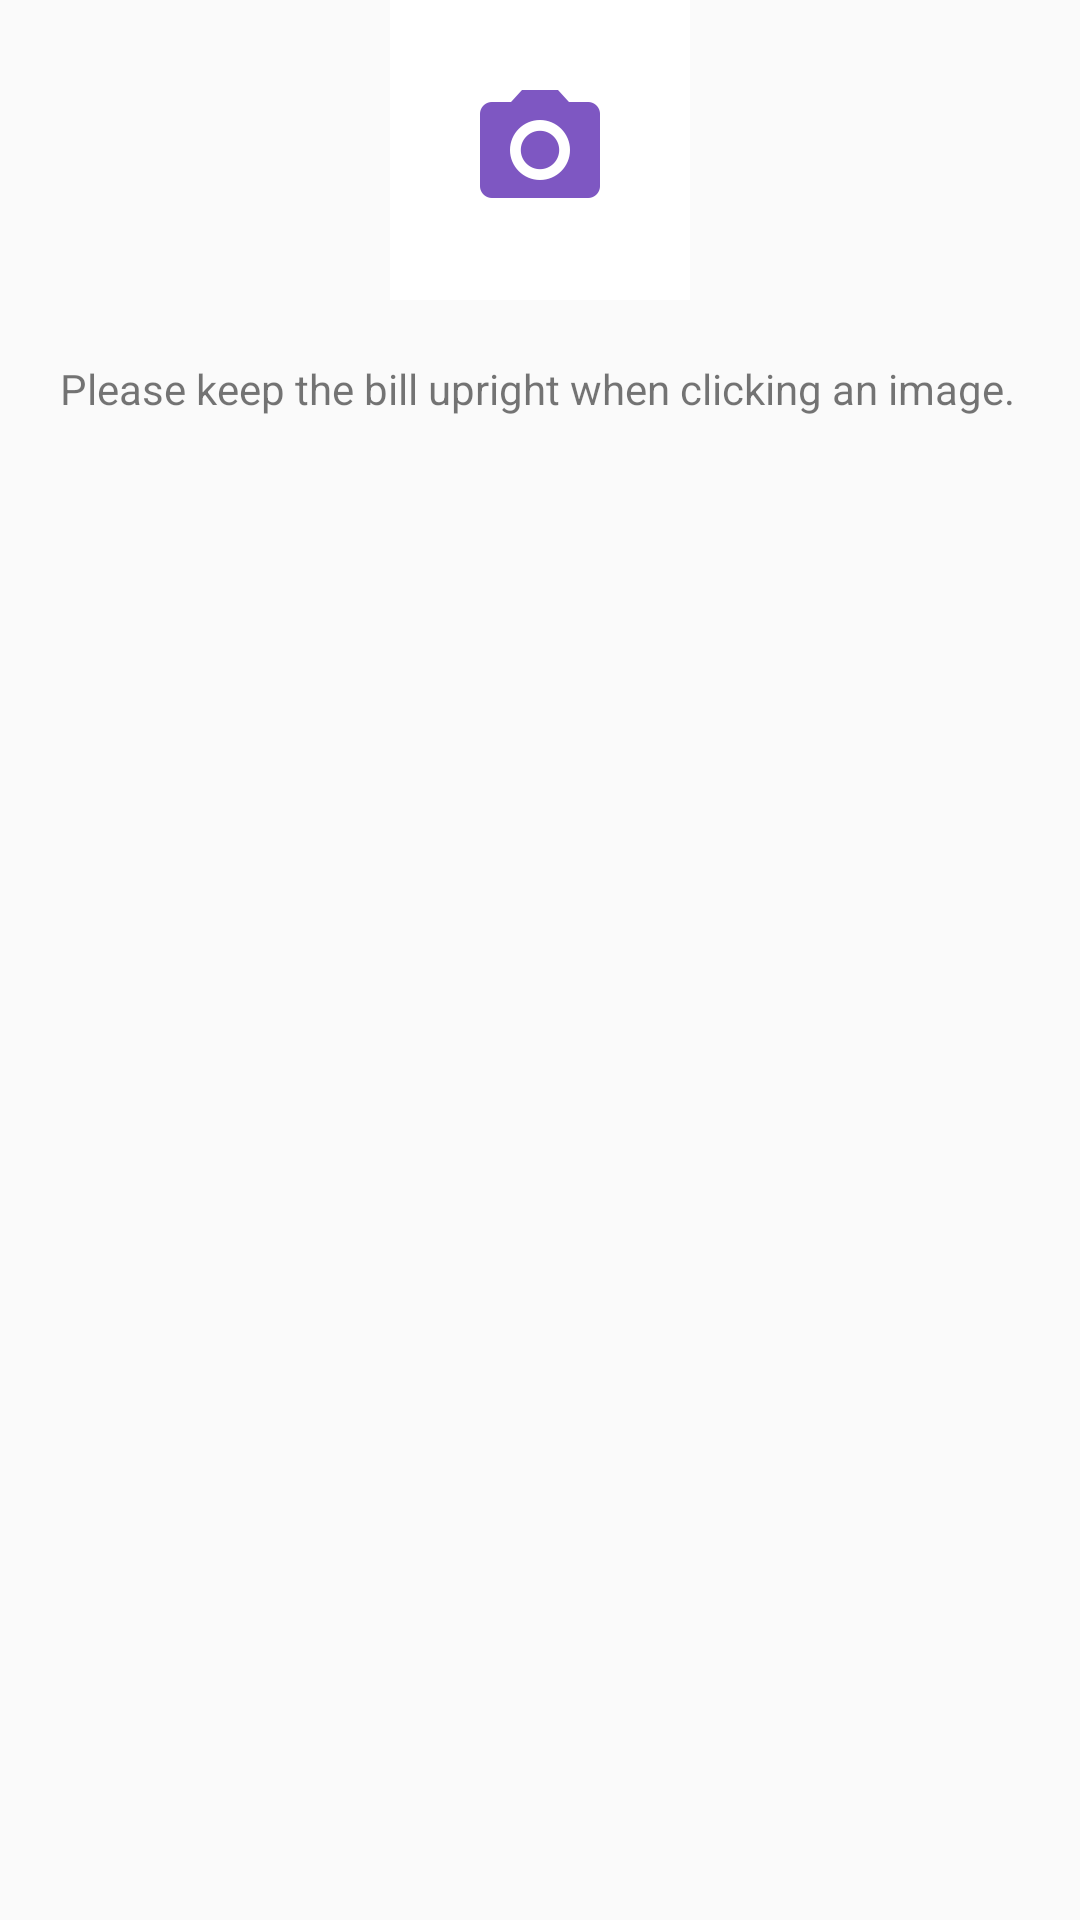

Point at icon controls on the screen. Image size 1080px×1920px, points as [x,y].
personalized camera: [540,144]
